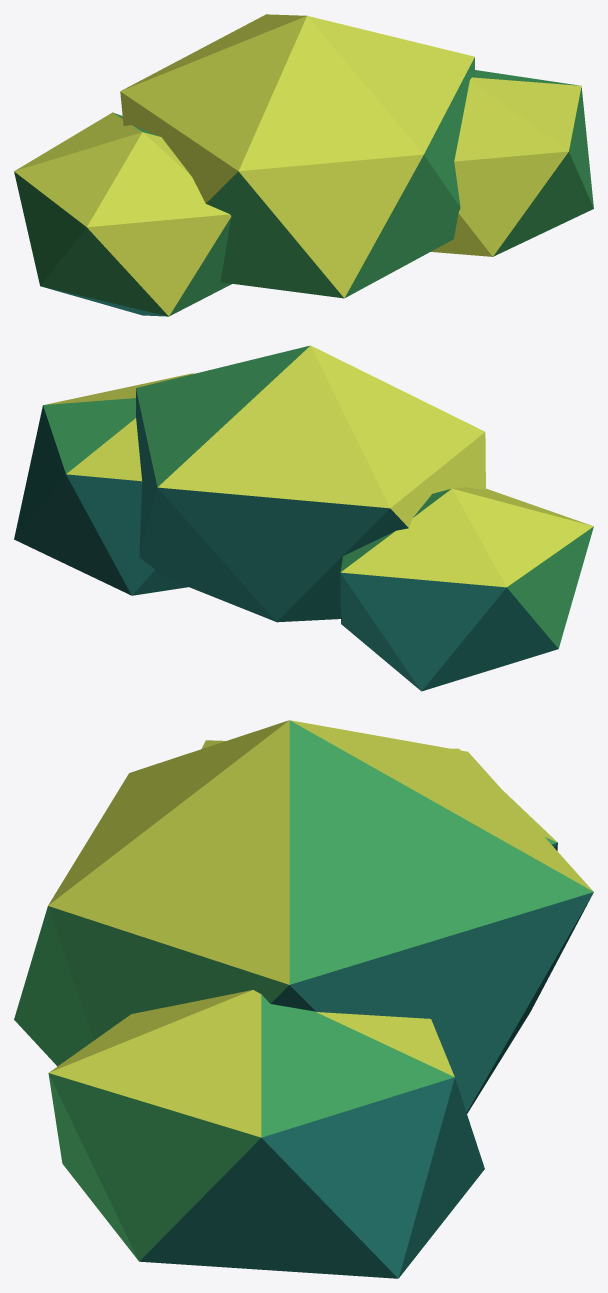
File: Cali_Yuvarlak.fbx
The picture shows the model from 3 angles, top to bottom: view 1: azimuth 30°, elevation 25°; view 2: azimuth 150°, elevation 25°; view 3: azimuth 270°, elevation 25°; orthographic projection. The views are drawn at different scales.
Visible parts, largest first — view 1: Cali_Yuvarlak; view 2: Cali_Yuvarlak; view 3: Cali_Yuvarlak.
Part boxes in pixels (x1,y1,x2,y2): Cali_Yuvarlak: (14,14,593,316); Cali_Yuvarlak: (14,345,593,691); Cali_Yuvarlak: (14,720,593,1278).
Size of the model in its own units: 104 by 52.25 by 62.07.
